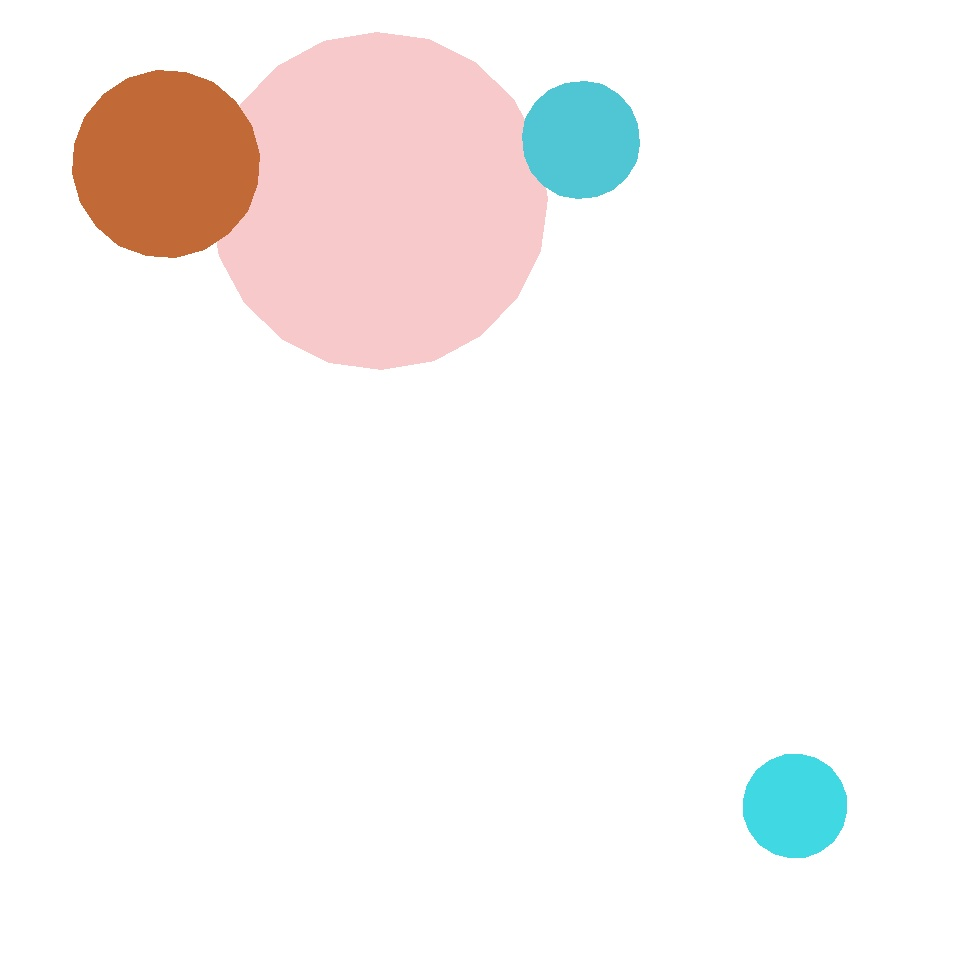circle: (430, 90, 744, 370), (320, 620, 590, 865), (403, 438, 617, 678)
square: (408, 414, 570, 576), (336, 134, 470, 268)
triangle: (210, 33, 548, 370), (72, 70, 260, 258), (522, 82, 640, 198), (744, 755, 846, 858), (664, 173, 764, 273)
